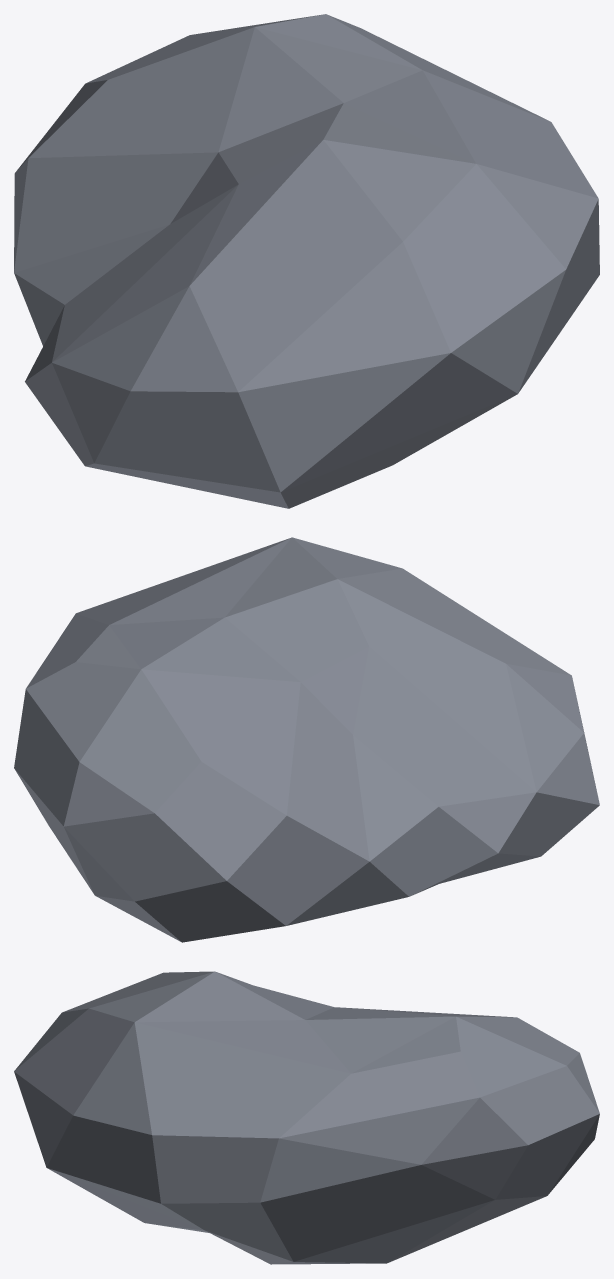
Rendered from mesh_rock_01.fbx.
The picture shows the model from 3 angles, top to bottom: view 1: azimuth 30°, elevation 25°; view 2: azimuth 150°, elevation 25°; view 3: azimuth 270°, elevation 25°; orthographic projection. The views are drawn at different scales.
Visible parts, largest first — view 1: mesh_rock_01; view 2: mesh_rock_01; view 3: mesh_rock_01.
Boxes of the visible parts, bbox=[...] form: mesh_rock_01: bbox=[14, 14, 599, 508]; mesh_rock_01: bbox=[14, 537, 599, 942]; mesh_rock_01: bbox=[14, 971, 599, 1264].
Size of the model in its own units: 0.2321 by 0.1314 by 0.2688.
